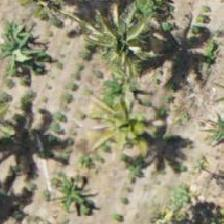coconut_tree: (76, 80, 166, 170), (82, 0, 172, 80)
